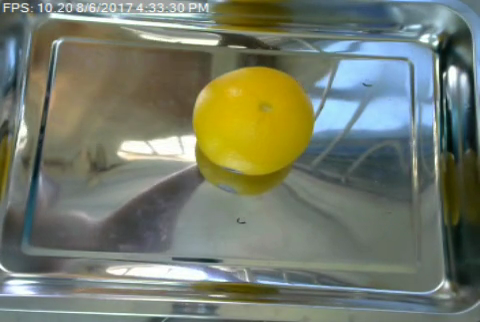Orange: (192, 65, 316, 175)
